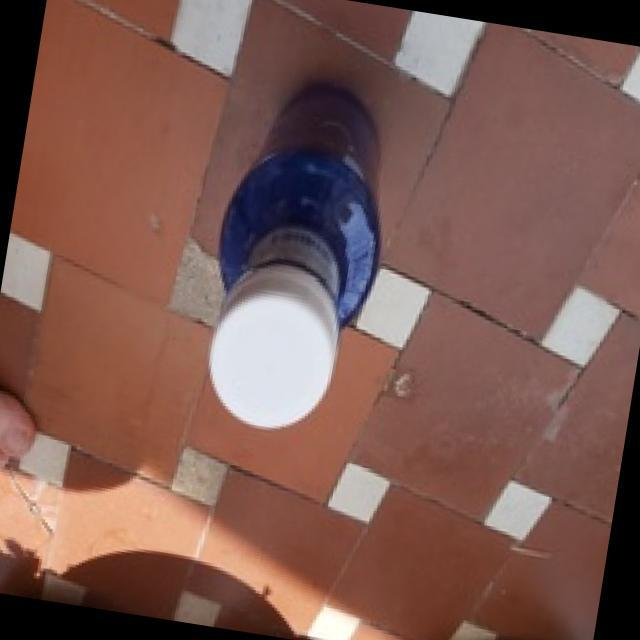good: (150, 51, 414, 447)
